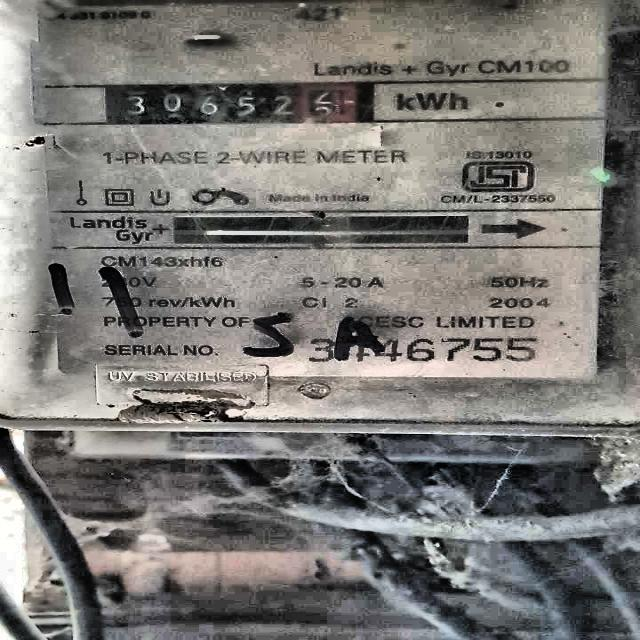Analog: (4, 0, 640, 468)
Reading: (112, 86, 353, 122)
Serial No.: (295, 333, 555, 368)
